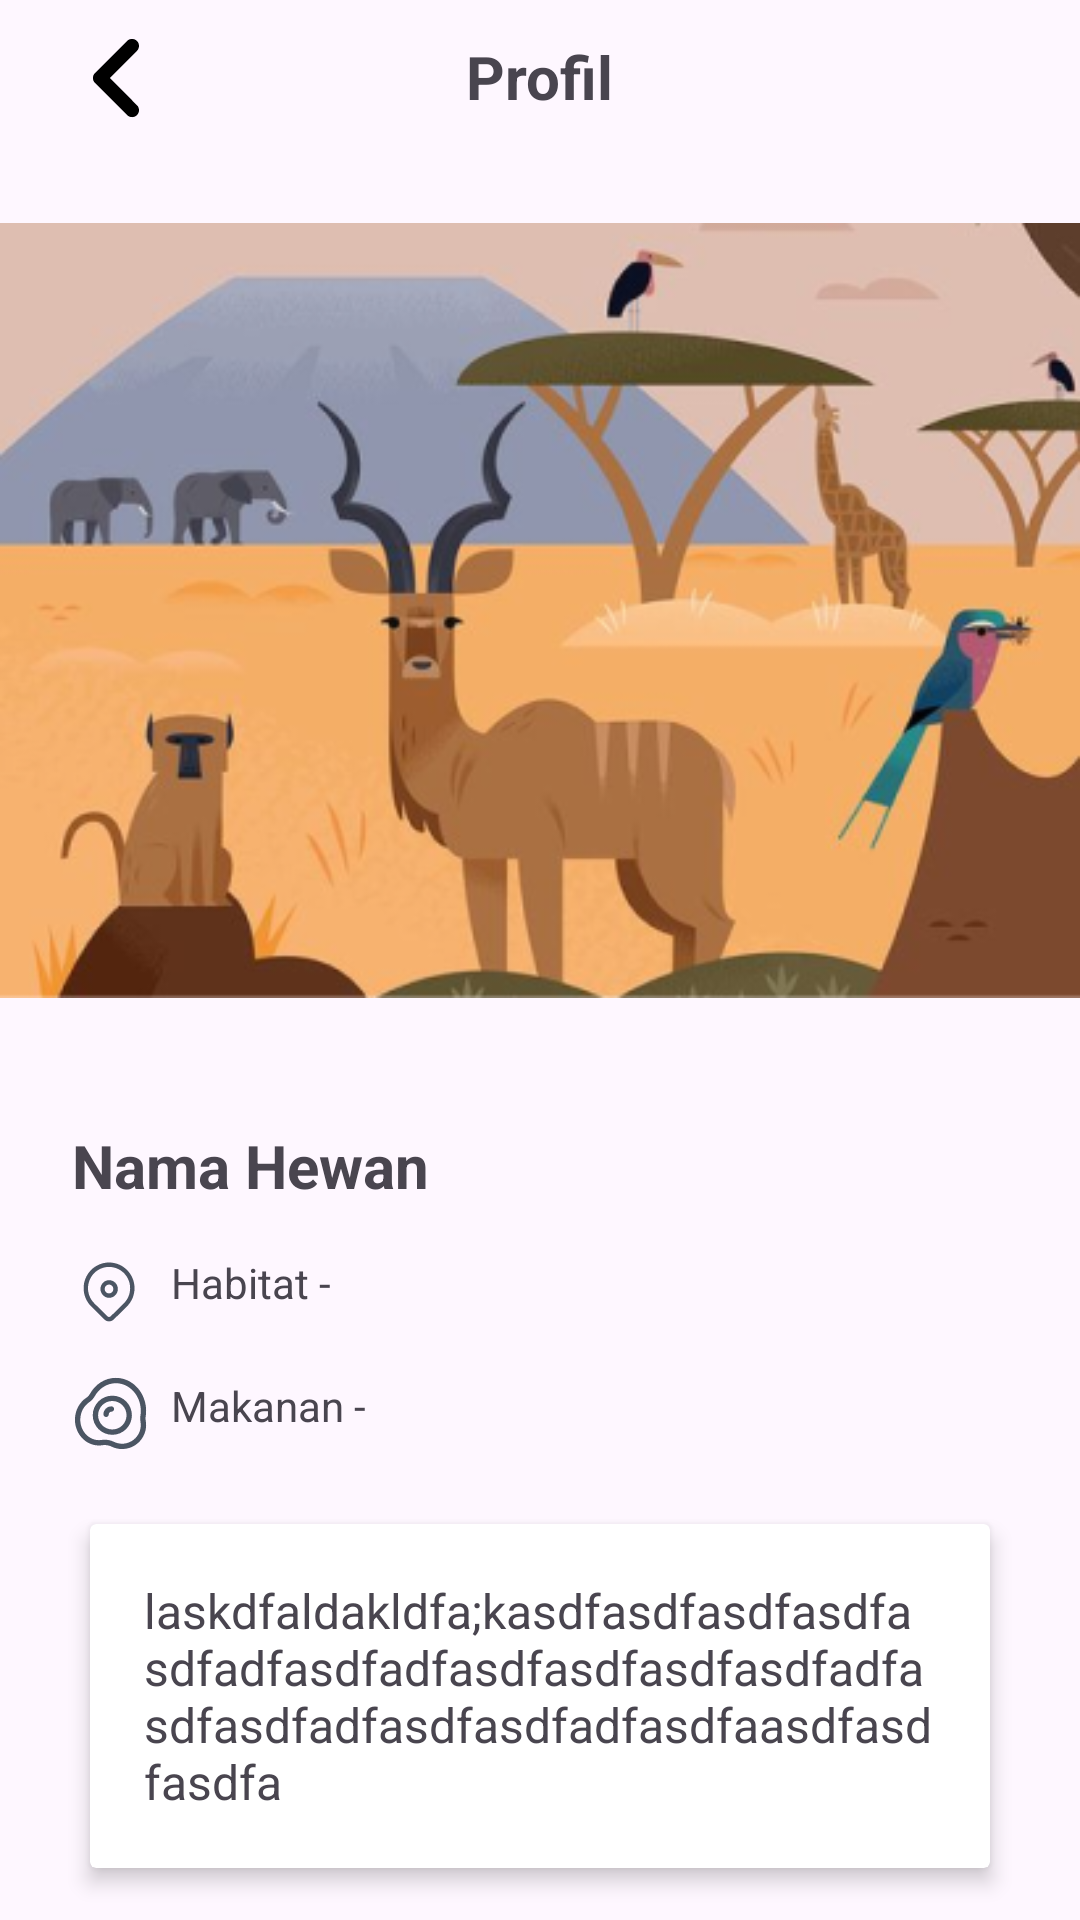

Where to tap for icons on this 1080w x 1920h app screen, as (x=x, y=y):
back: (x=116, y=78)
food: (x=110, y=1413)
location: (x=109, y=1292)
